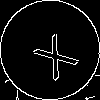X: (25, 25, 80, 82)
